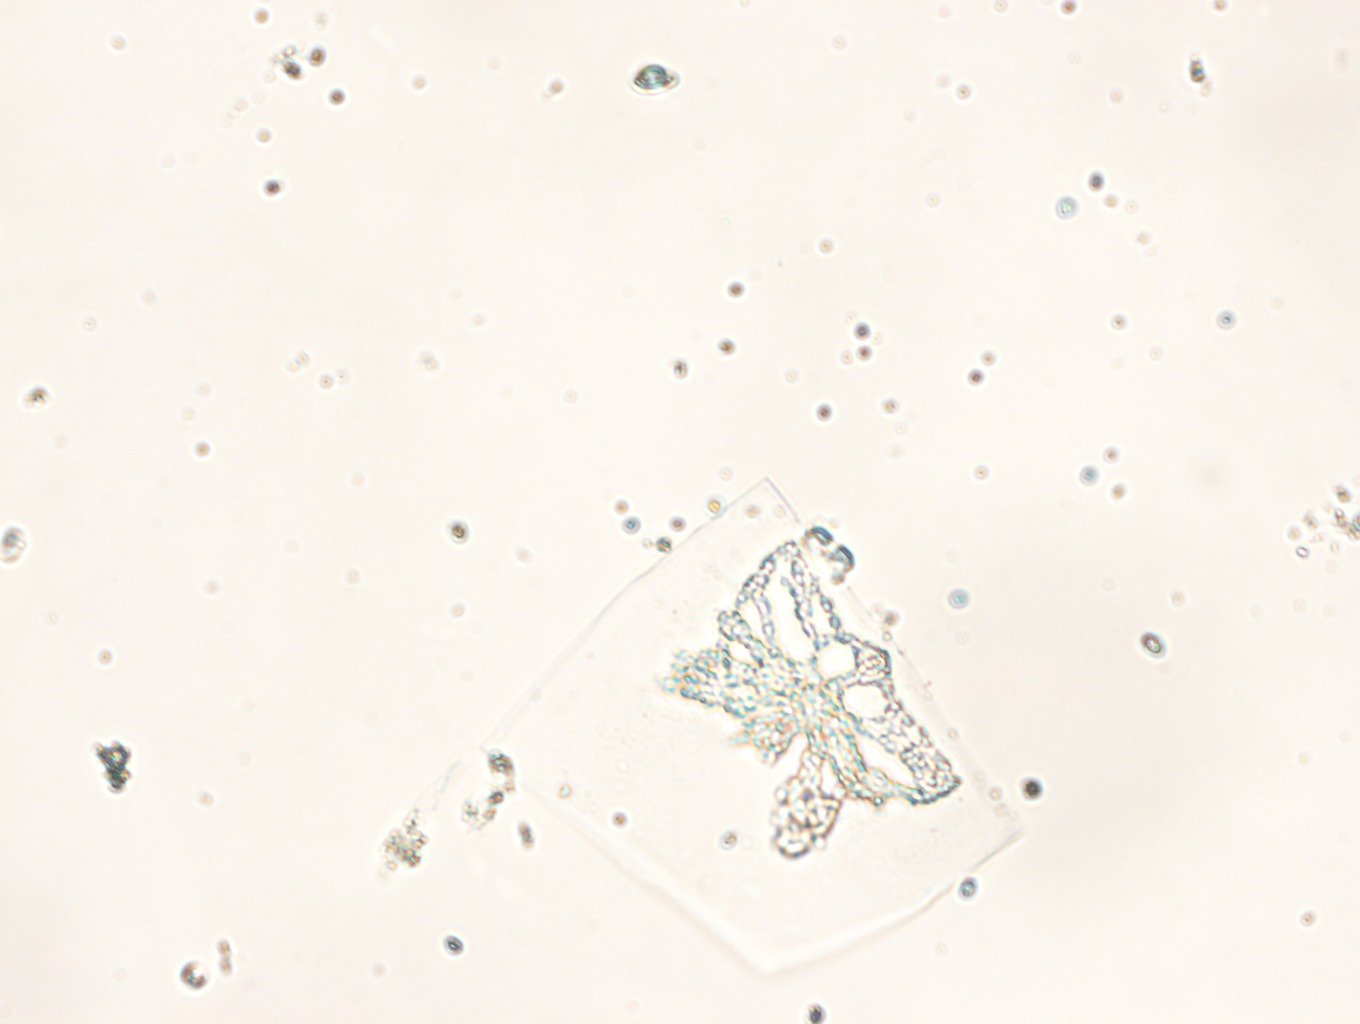helicotheca: (481, 477, 1023, 984)
